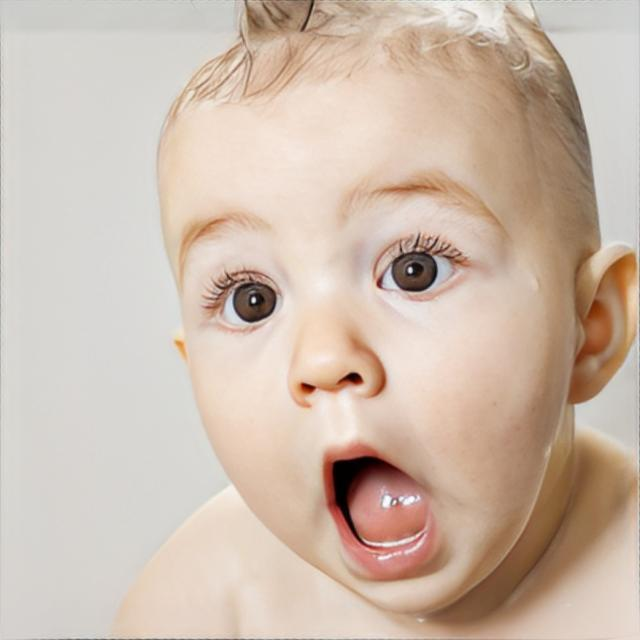surprise: (152, 38, 575, 619)
